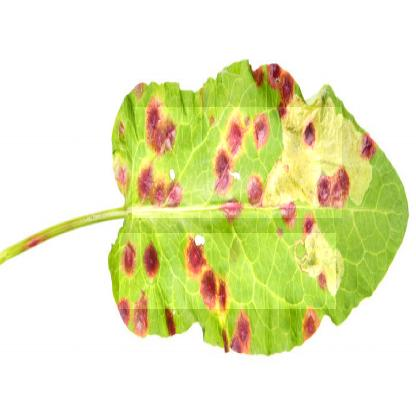black-spot: (132, 107, 342, 218), (119, 233, 336, 309)
